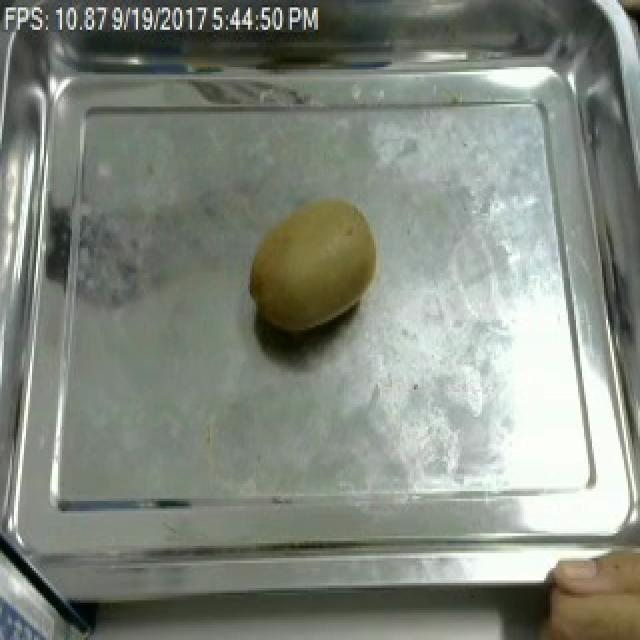Fruit: (244, 191, 390, 340), (516, 531, 640, 640)
